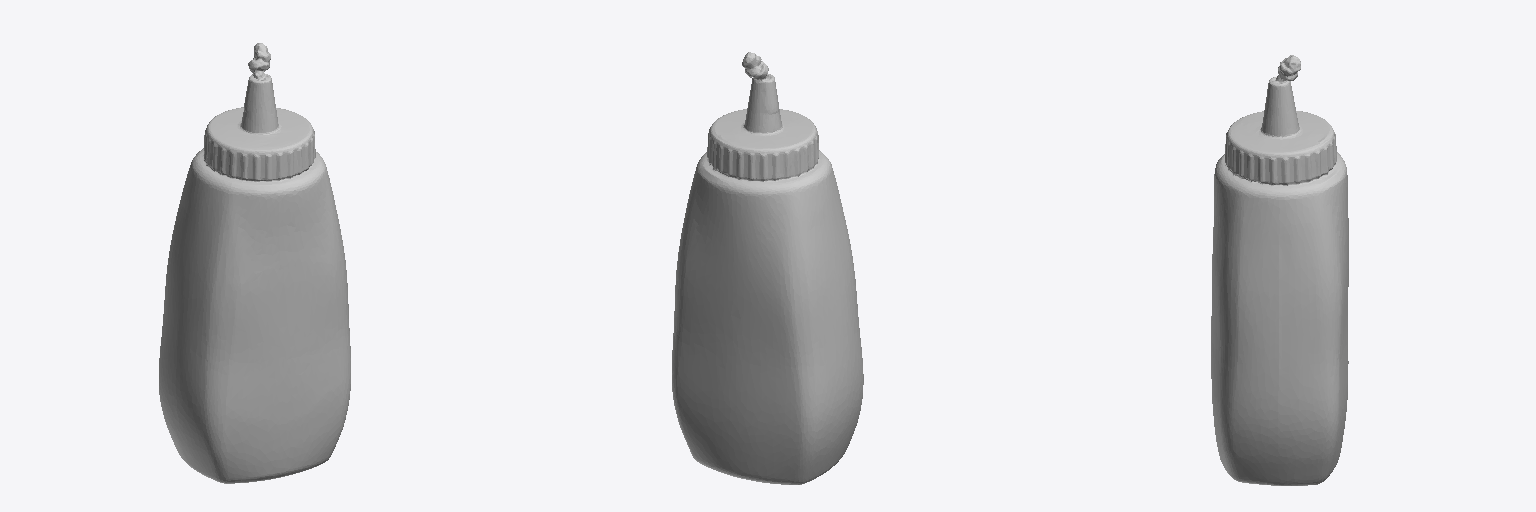
The model's file is mustard.obj.
3 views of the same model, side by side, from view 1: azimuth 30°, elevation 25°; view 2: azimuth 150°, elevation 25°; view 3: azimuth 270°, elevation 25° (orthographic).
Parts seen in each view (by area): view 1: textured; view 2: textured; view 3: textured.
Part boxes in pixels (x1,y1,x2,y2): textured: (159,43,350,483); textured: (672,52,863,484); textured: (1211,55,1348,485).
Bounding box in the file's own units: 6.51 × 16 × 4.86.